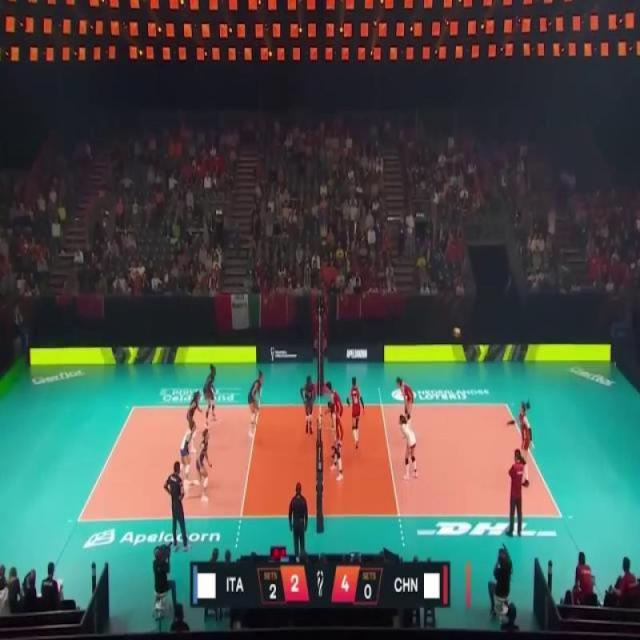volleyball: (453, 326, 461, 339)
